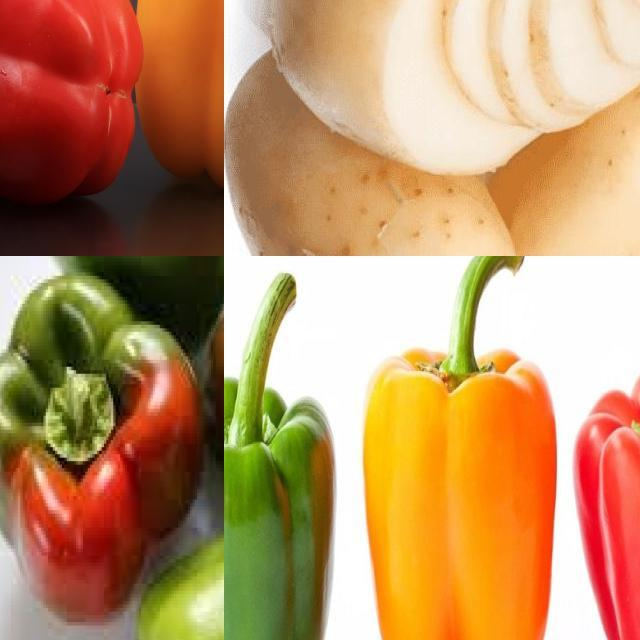bell_pepper: (1, 257, 199, 640), (366, 257, 557, 640), (225, 272, 336, 640), (1, 1, 143, 204), (15, 257, 225, 356), (575, 329, 640, 640), (116, 521, 225, 640)
potato: (268, 1, 640, 176), (225, 47, 522, 257), (491, 45, 640, 257)
